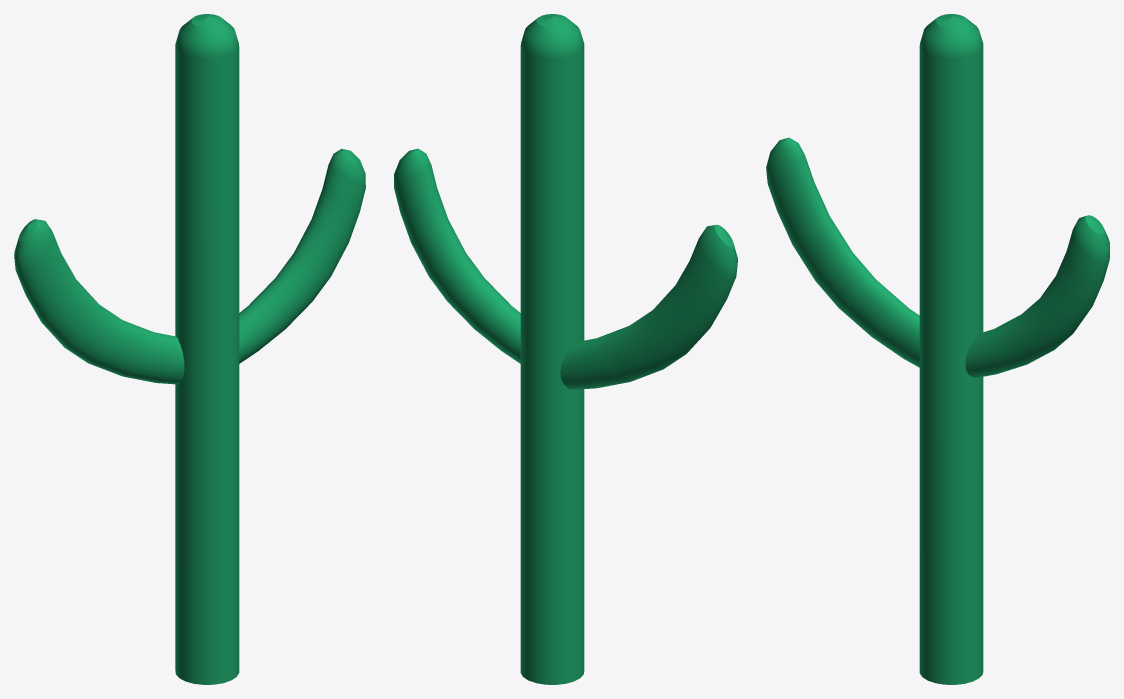
The model's file is Cactus2Finished.fbx.
3 views of the same model, side by side, from view 1: azimuth 30°, elevation 25°; view 2: azimuth 150°, elevation 25°; view 3: azimuth 330°, elevation 25° (orthographic).
Visible parts, largest first — view 1: pCylinder9; view 2: pCylinder9; view 3: pCylinder9.
Part boxes in pixels (x1=…): pCylinder9: x1=14, y1=14, x2=365, y2=684; pCylinder9: x1=394, y1=14, x2=737, y2=684; pCylinder9: x1=766, y1=14, x2=1109, y2=684.
Size of the model in its own units: 263 by 478 by 42.52.
